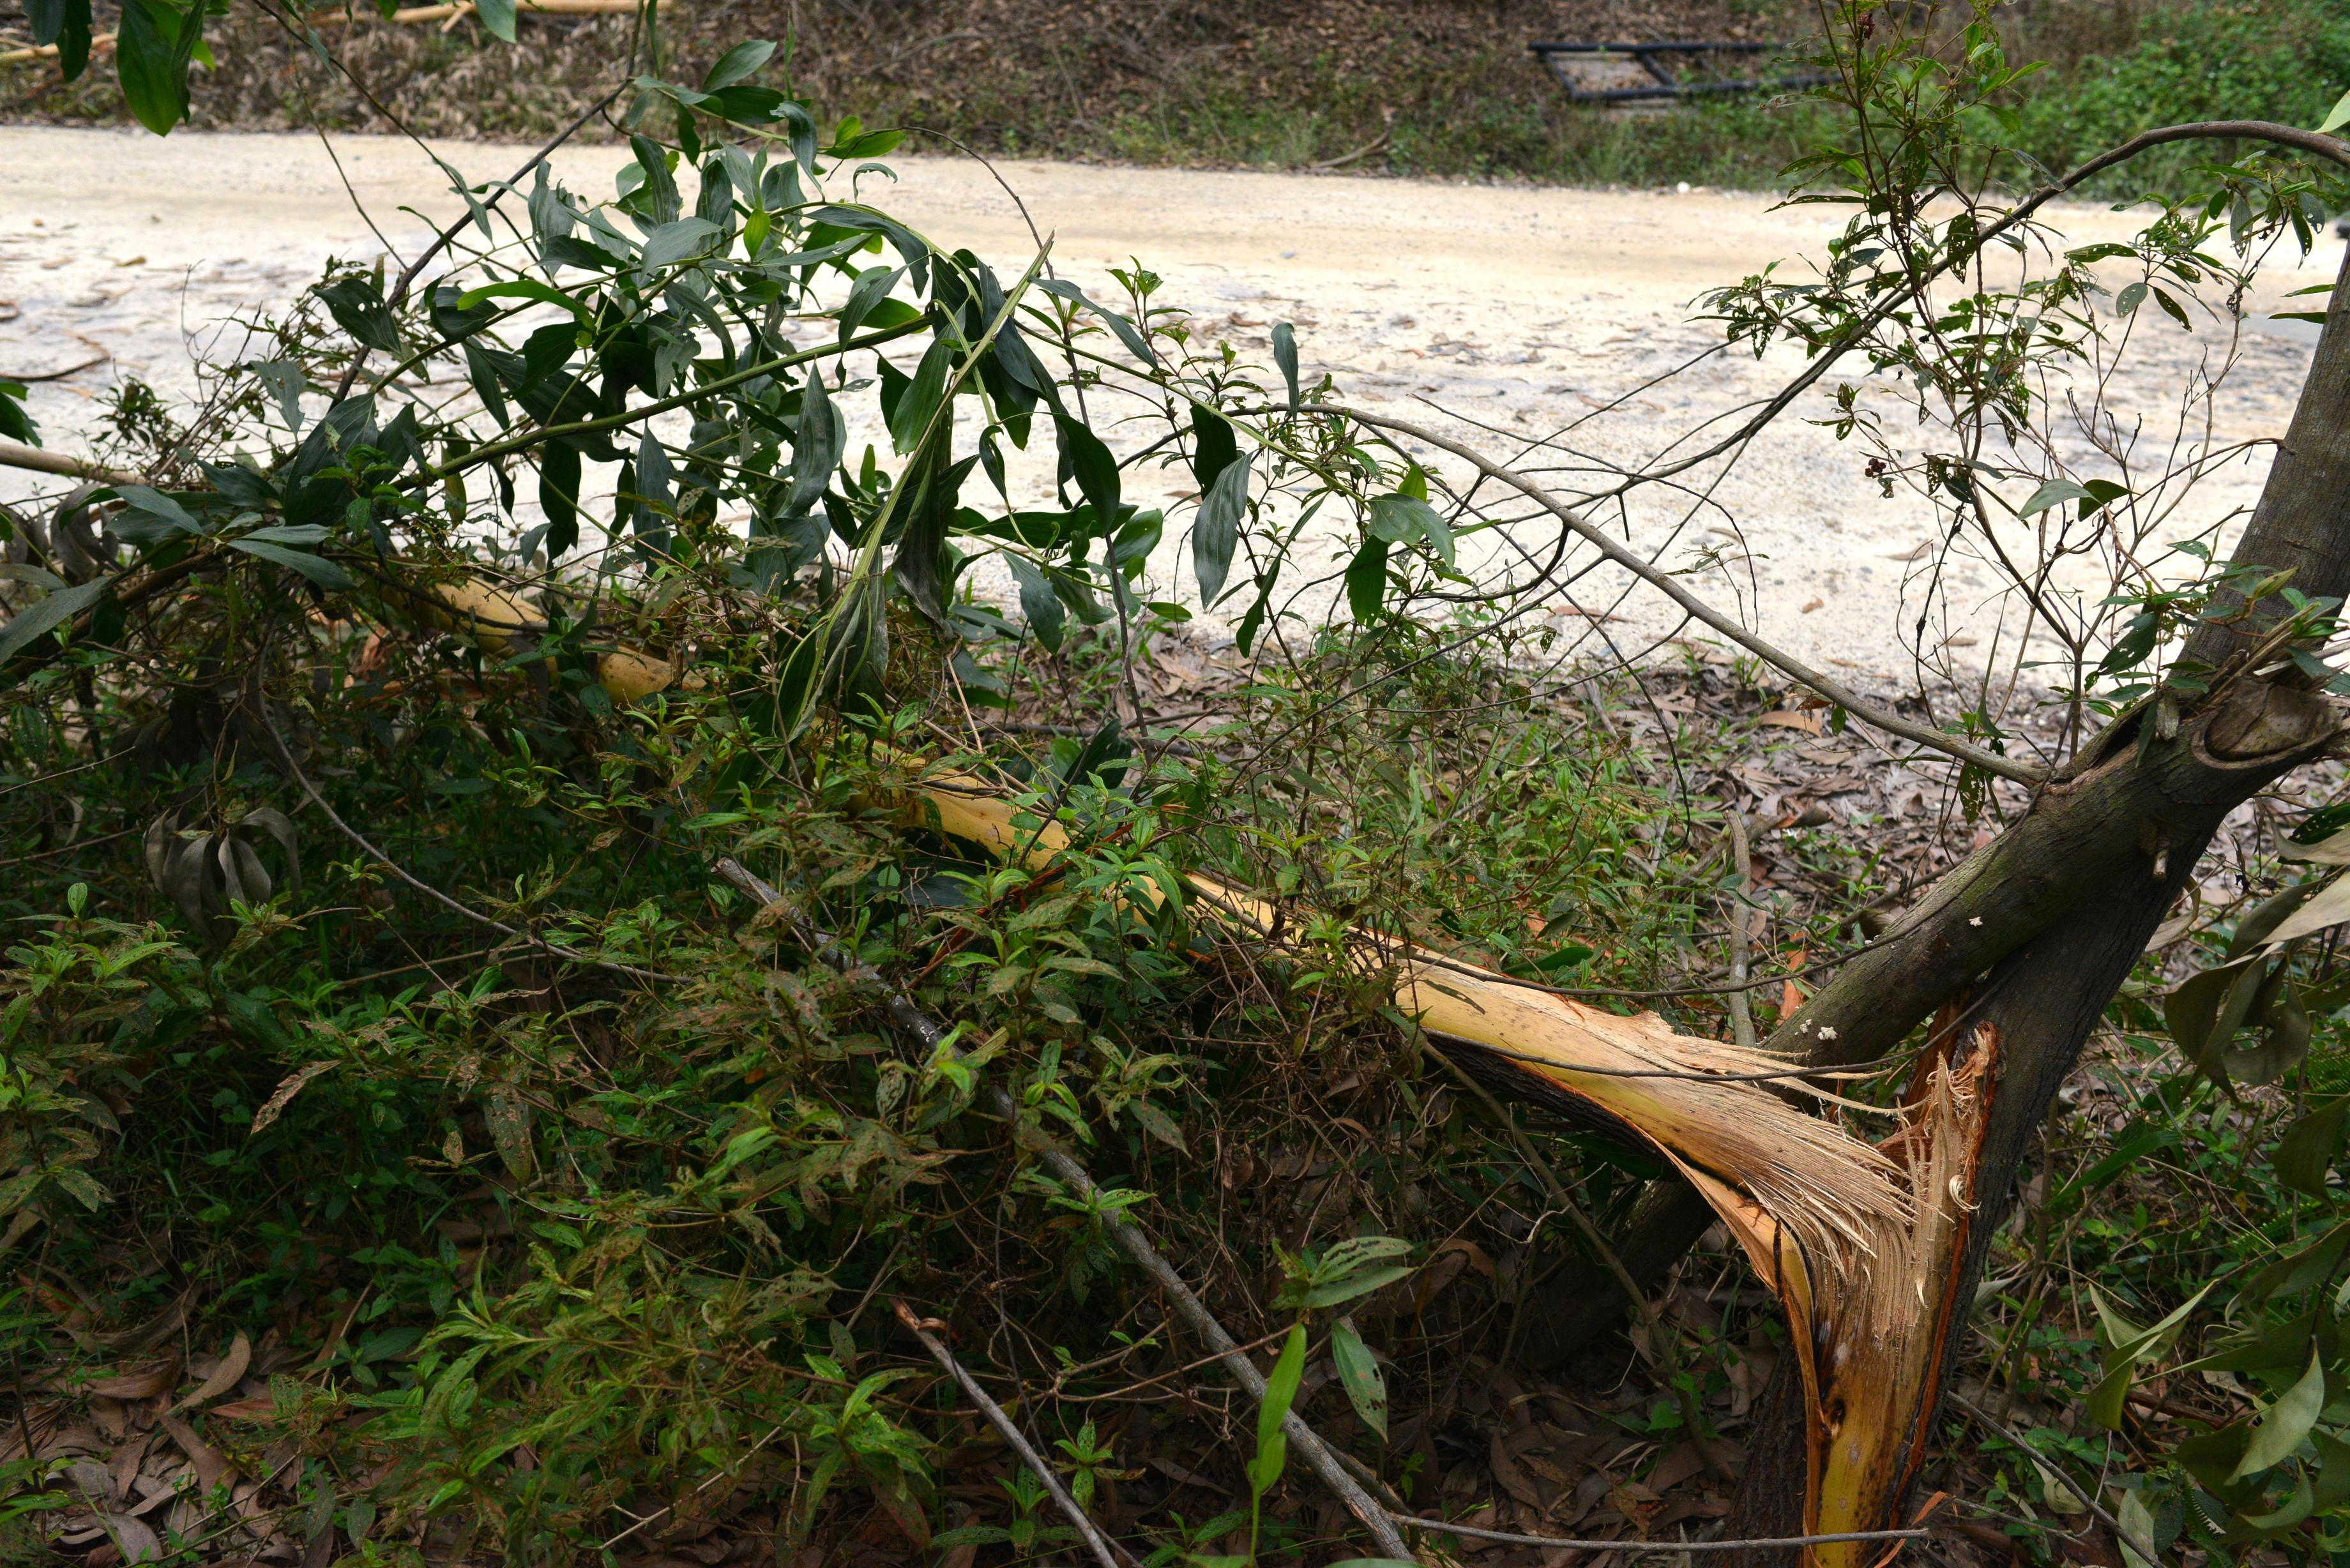Mammals Attack: (439, 569, 1988, 1568)
